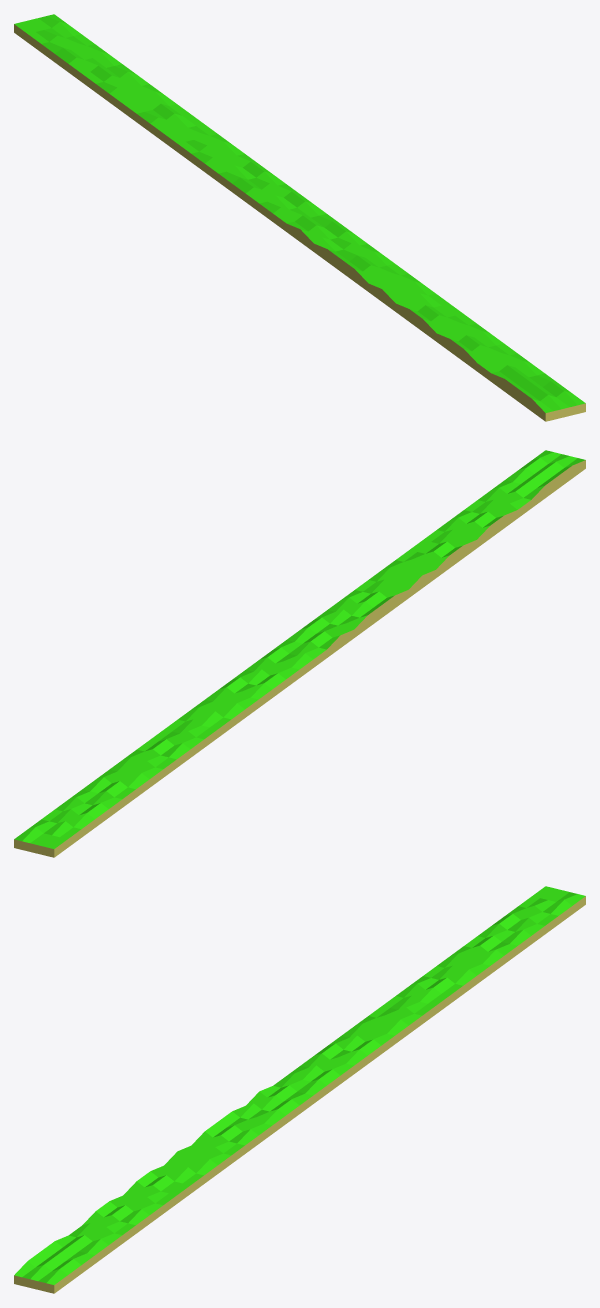
Rendered from Yan_Platform_2.fbx.
The picture shows the model from 3 angles, top to bottom: view 1: azimuth 30°, elevation 25°; view 2: azimuth 150°, elevation 25°; view 3: azimuth 330°, elevation 25°; orthographic projection.
Visible parts, largest first — view 1: Yan_Platform_2; view 2: Yan_Platform_2; view 3: Yan_Platform_2.
Part boxes in pixels (x1=…): Yan_Platform_2: x1=14, y1=14, x2=585, y2=421; Yan_Platform_2: x1=14, y1=450, x2=585, y2=857; Yan_Platform_2: x1=14, y1=886, x2=585, y2=1293.
Size of the model in its own units: 483 by 148 by 11035.
